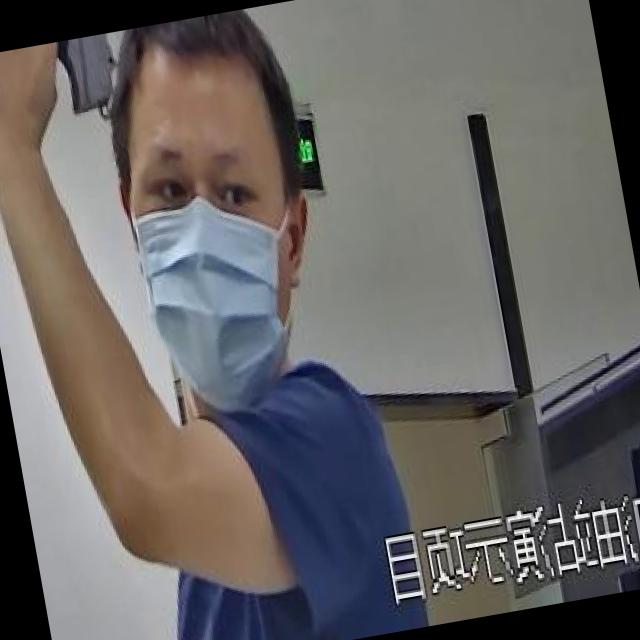Guns: (0, 25, 170, 172)
